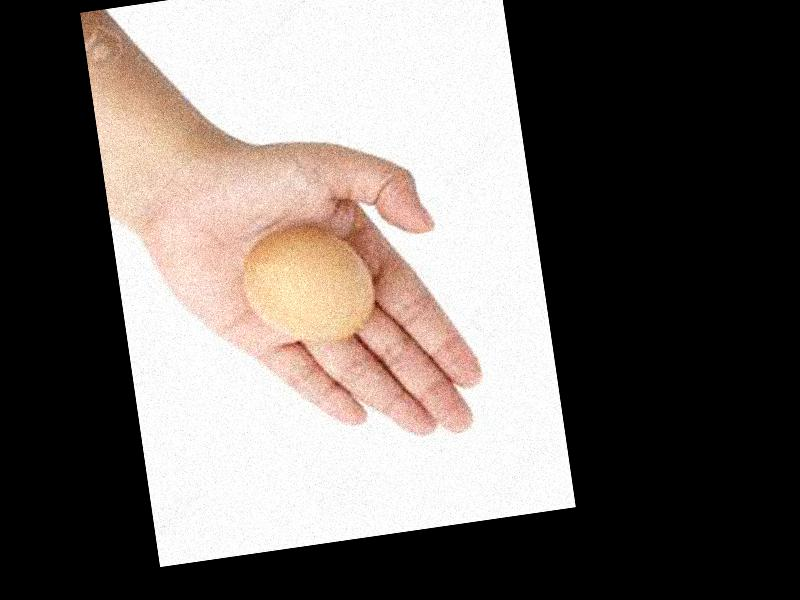Eggs: (237, 216, 378, 349)
